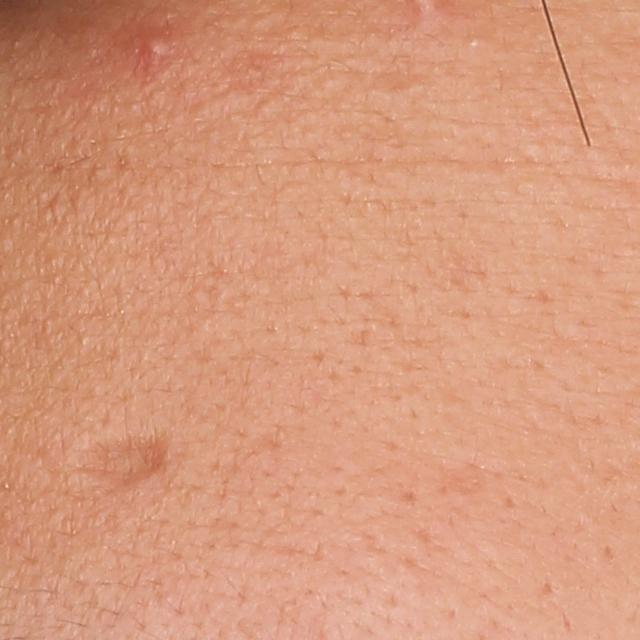atrophic_scar: (68, 434, 172, 496)
